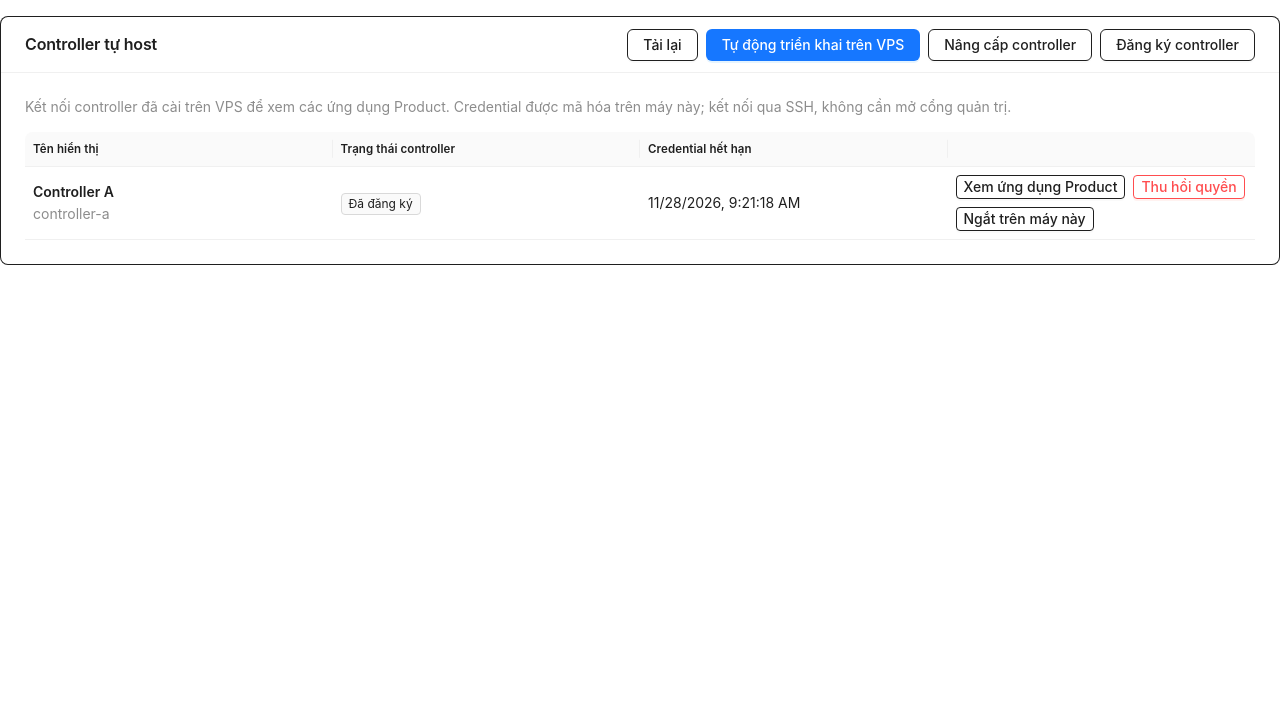
Controller settings onboarding and authoritative app reads › loads the next controller page and never merges a page from a changed binding revision
expect the text "Controller A" is shown: met, box [33,183,114,200]
Click the button "Xem ứng dụng Product".
click(1040, 187)  # box [956,175,1125,199]
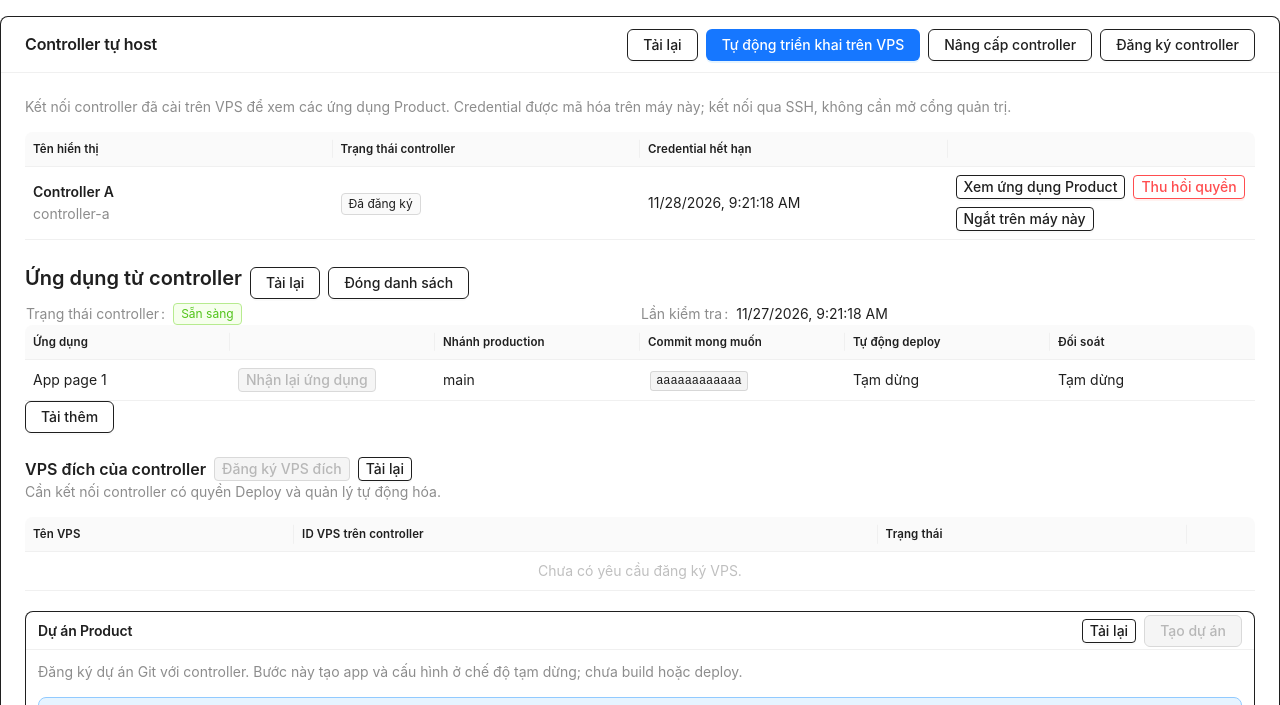
expect the text "App page 1" is shown: met, box [25,360,230,401]
Click the button "Tải thêm".
click(70, 417)  # box [25,401,114,433]
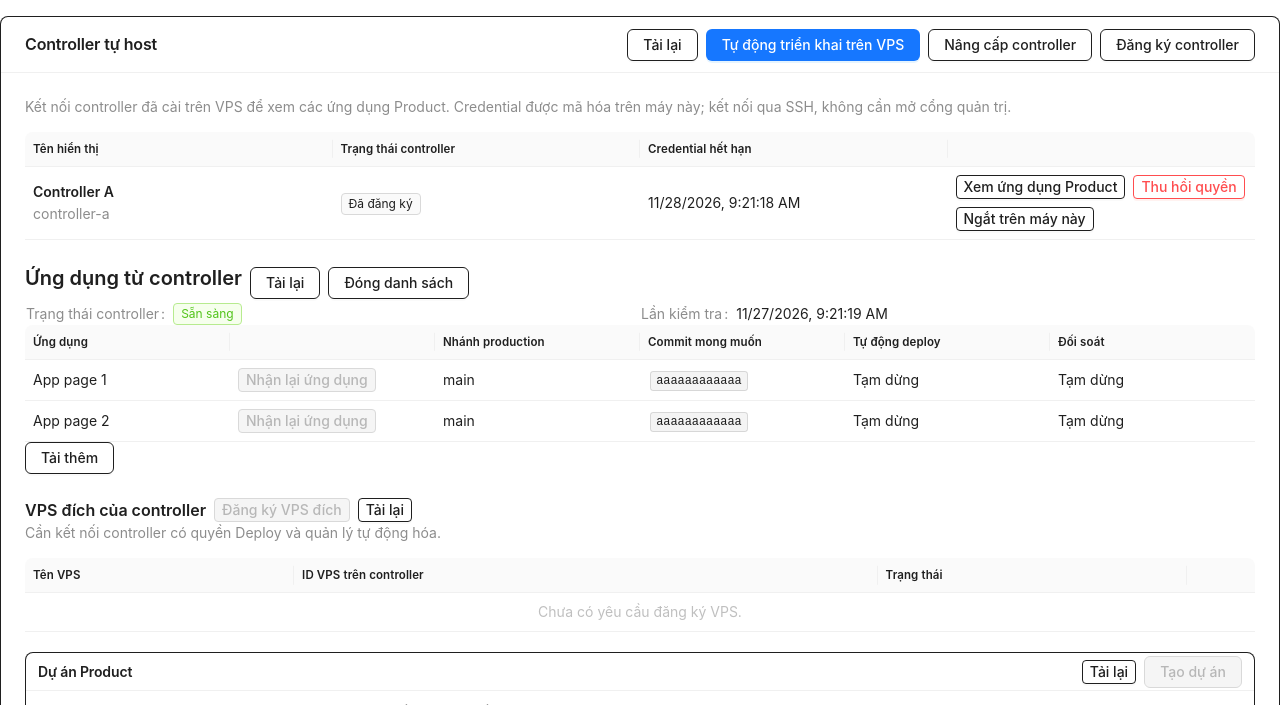
expect the text "App page 1" is shown: met, box [25,360,230,401]
expect the text "App page 2" is shown: met, box [25,401,230,442]
Click the button "Tải thêm".
click(70, 458)  # box [25,442,114,474]
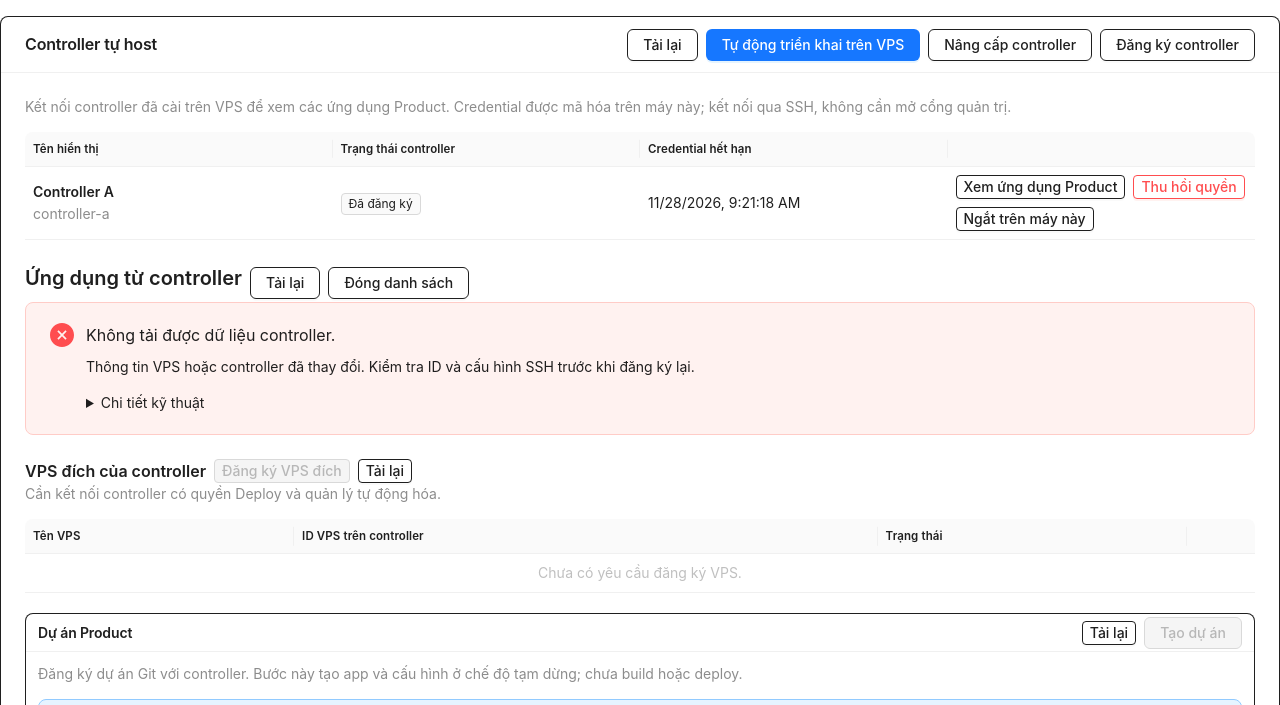
expect the text "App page 1" is gone: met
